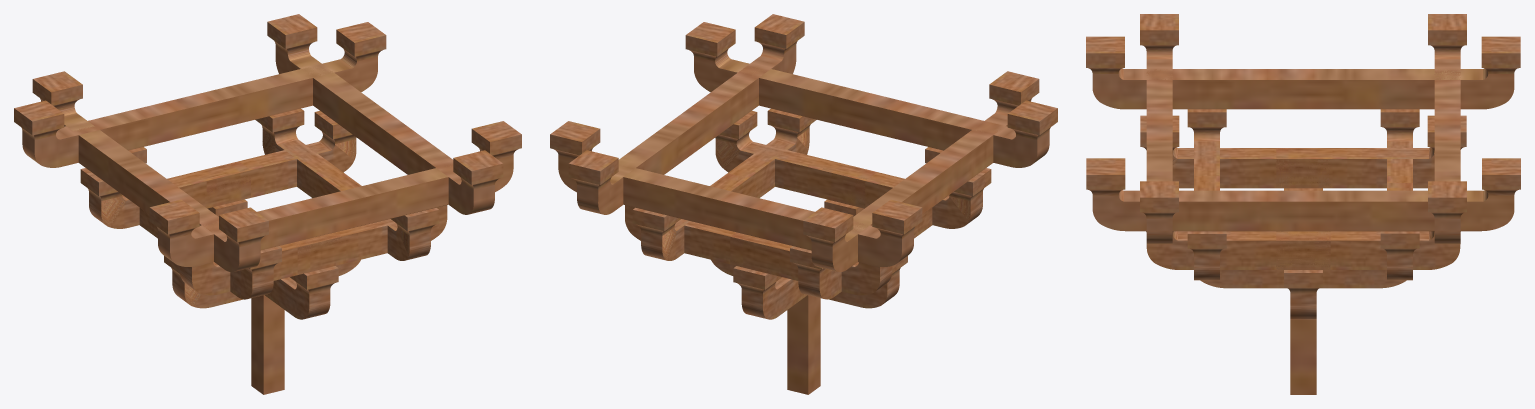
The picture shows the model from 3 angles, left to right: view 1: azimuth 30°, elevation 25°; view 2: azimuth 150°, elevation 25°; view 3: azimuth 270°, elevation 25°; orthographic projection. The views are drawn at different scales.
Parts seen in each view (by area): view 1: R6L7; view 2: R6L7; view 3: R6L7.
Part boxes in pixels (x1=…): R6L7: x1=14, y1=14, x2=521, y2=394; R6L7: x1=550, y1=14, x2=1057, y2=394; R6L7: x1=1086, y1=14, x2=1520, y2=394.
Bounding box in the file's own units: 40.03 × 28.81 × 40.04.
Materials: 1 (1 with a texture image).
